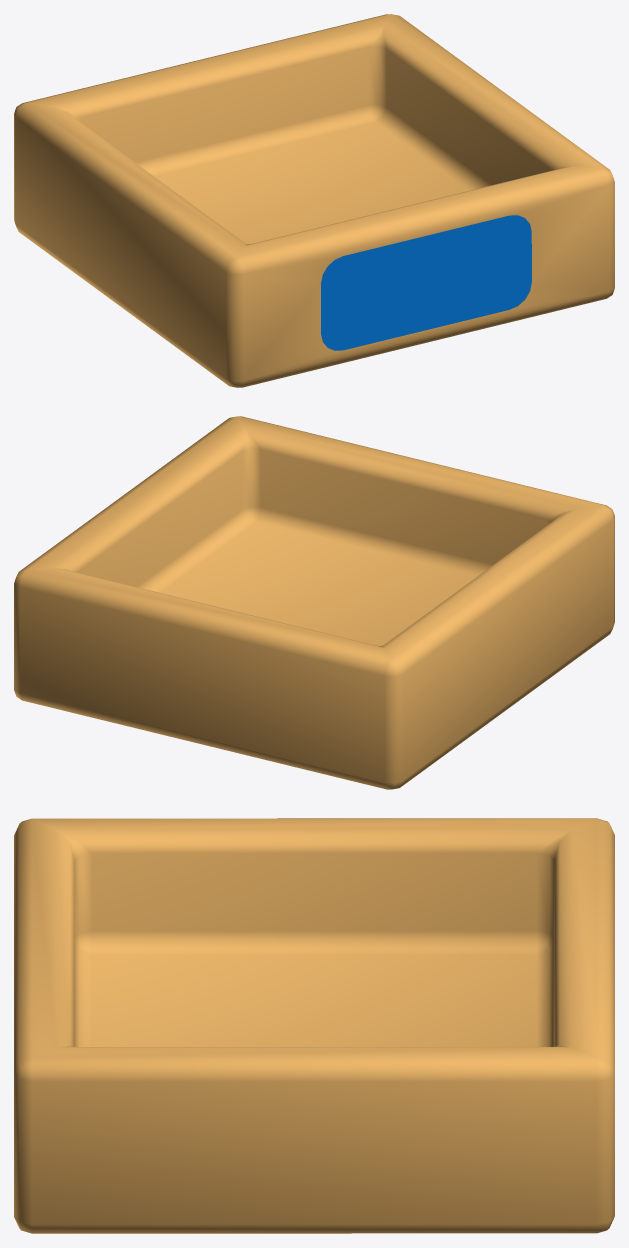
File: Small_Box.fbx
The picture shows the model from 3 angles, top to bottom: view 1: azimuth 30°, elevation 25°; view 2: azimuth 150°, elevation 25°; view 3: azimuth 270°, elevation 25°; orthographic projection. The views are drawn at different scales.
Parts seen in each view (by area): view 1: boxes.001; view 2: boxes.001; view 3: boxes.001.
Part boxes in pixels (x1=…): boxes.001: x1=14, y1=14, x2=614, y2=387; boxes.001: x1=14, y1=416, x2=614, y2=789; boxes.001: x1=14, y1=818, x2=614, y2=1233.
Size of the model in its own units: 940 by 302 by 940.
2 materials, 1 textured.
